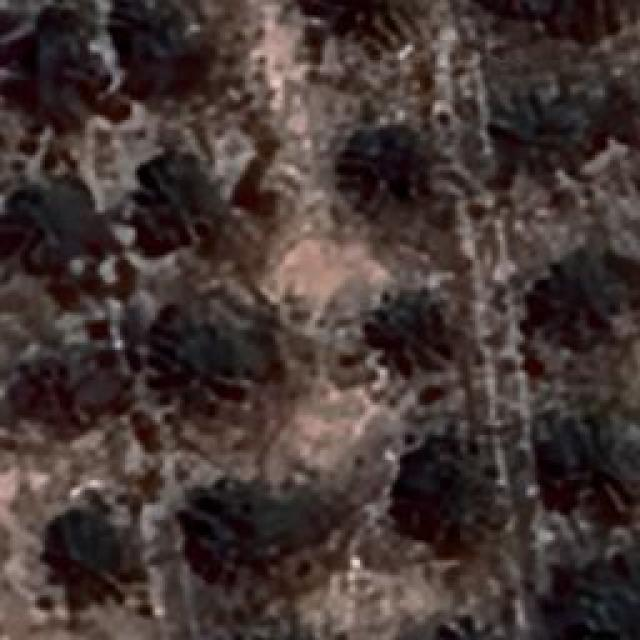PalmTree: (98, 21, 357, 89), (65, 89, 98, 550), (0, 0, 105, 135), (0, 176, 100, 292), (174, 488, 282, 582), (158, 312, 256, 402), (402, 446, 496, 539), (555, 415, 635, 510), (492, 88, 578, 172), (536, 240, 609, 338), (380, 291, 460, 379), (121, 0, 201, 85), (10, 368, 100, 442), (342, 132, 422, 208), (138, 154, 212, 236), (555, 572, 640, 640), (522, 0, 630, 34), (487, 0, 575, 30), (425, 614, 512, 640), (420, 622, 514, 640)
